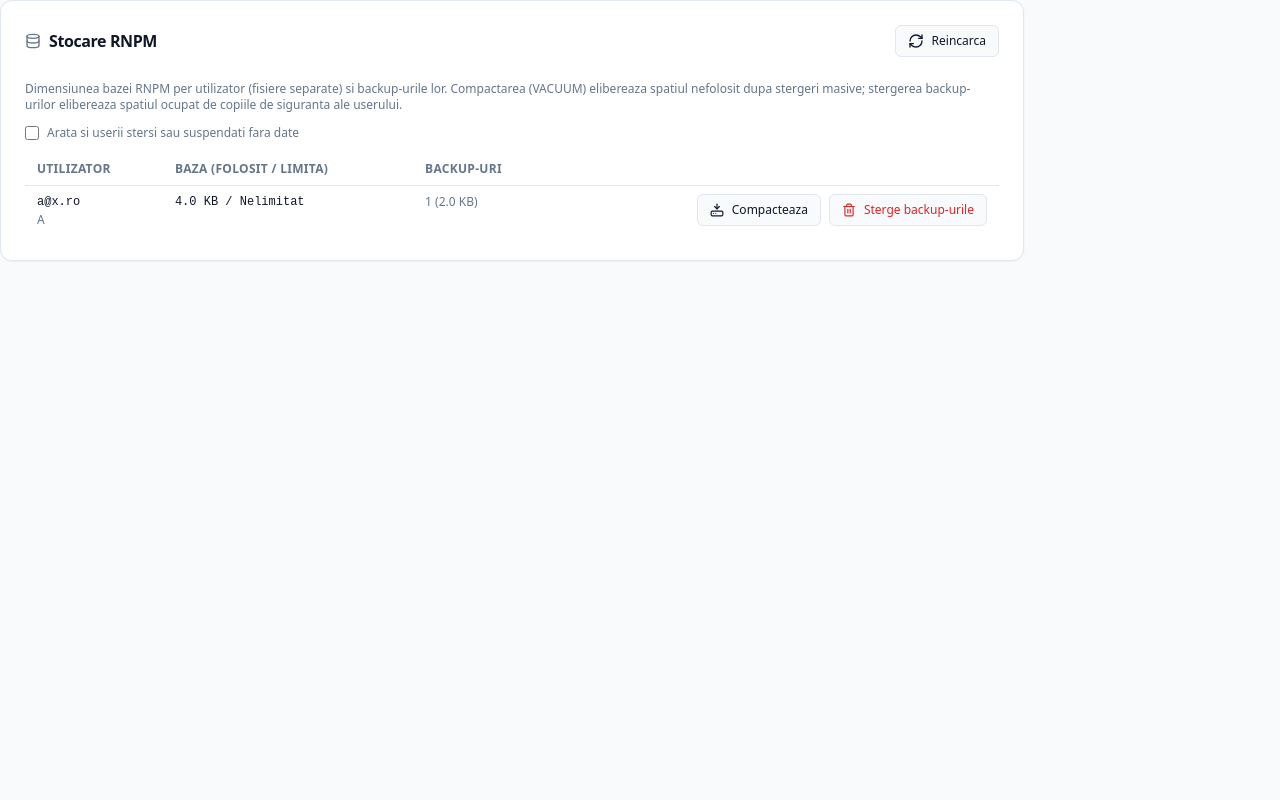
AdminRnpmStorage (embedded) › butonul Compacteaza cere confirmare si apeleaza rnpmCompactDb cu ownerId-ul randului
Click the button "Compacteaza": (759, 210) [697,194,821,226]
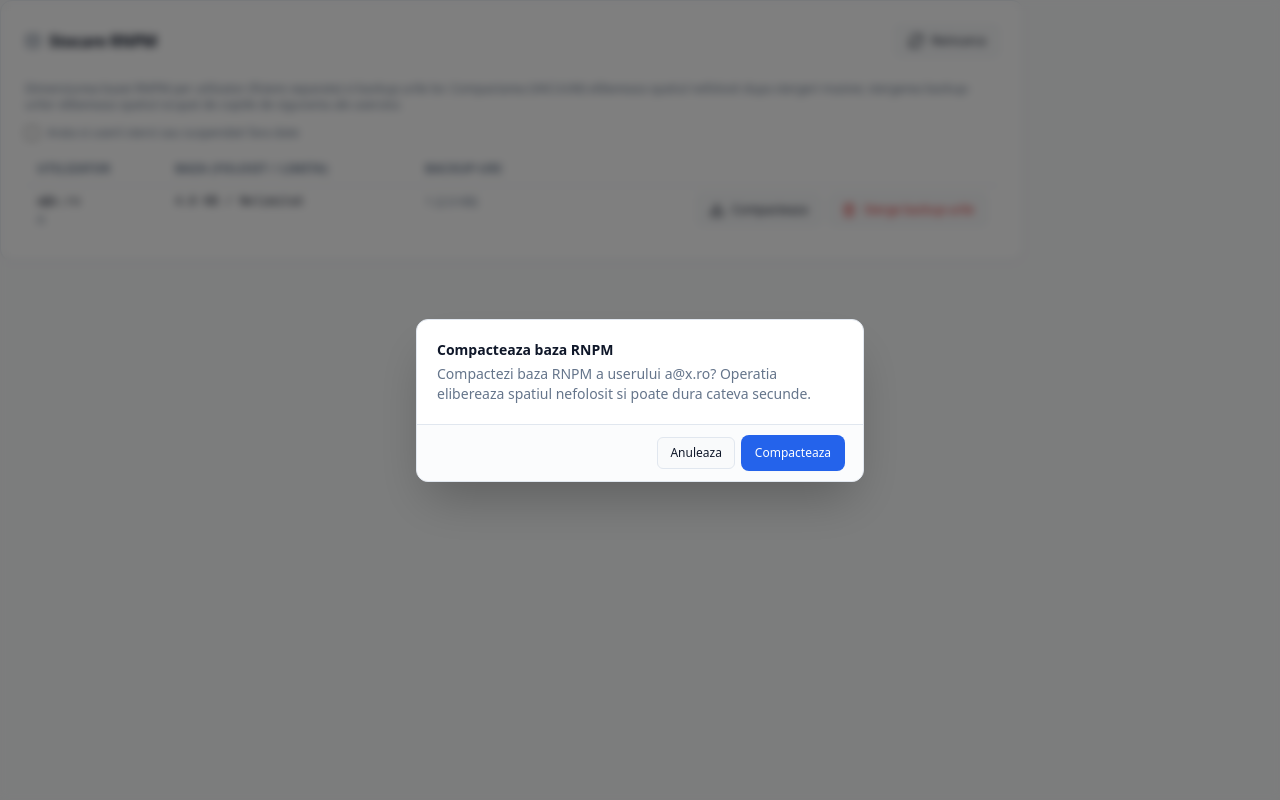
Click the button "Compacteaza": (793, 452) [743,436,843,468]
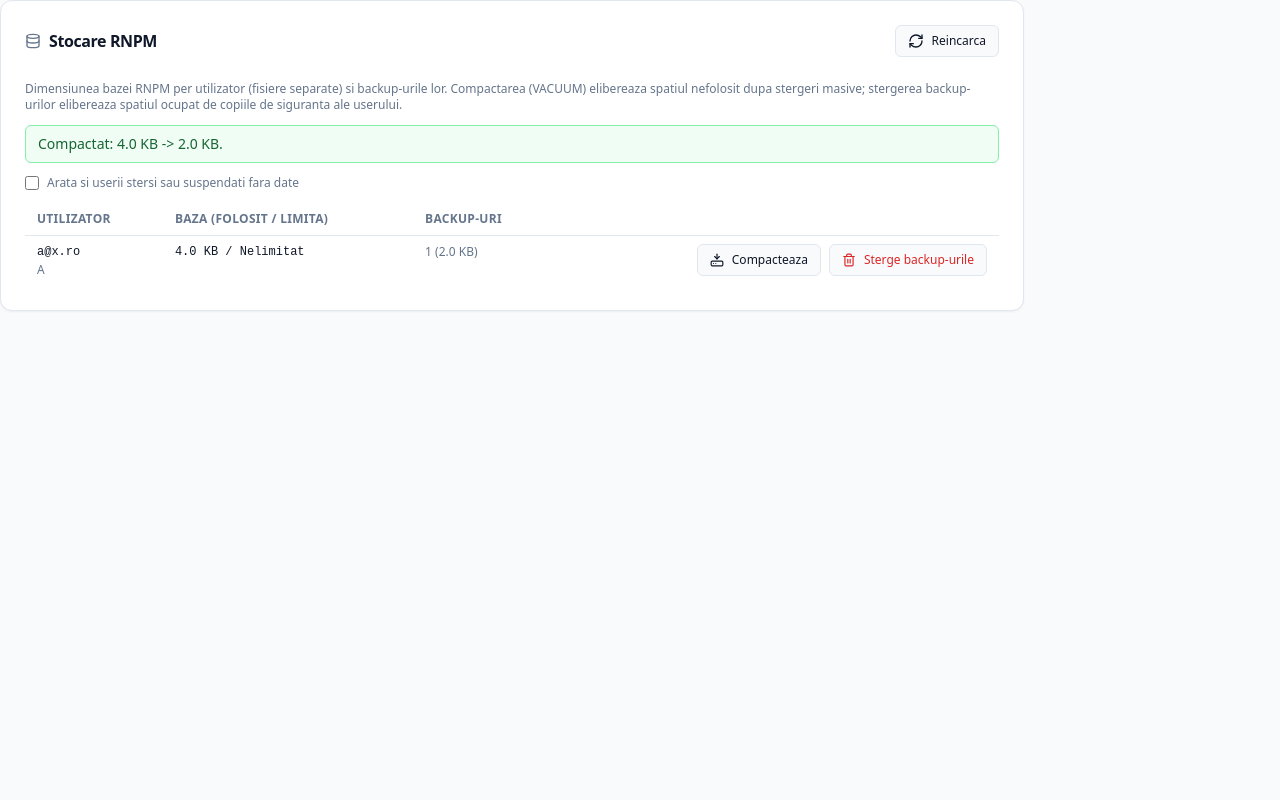
Result: the text "Compactat: 4.0 KB -> 2.0 KB" is shown at [38,134,223,153]
